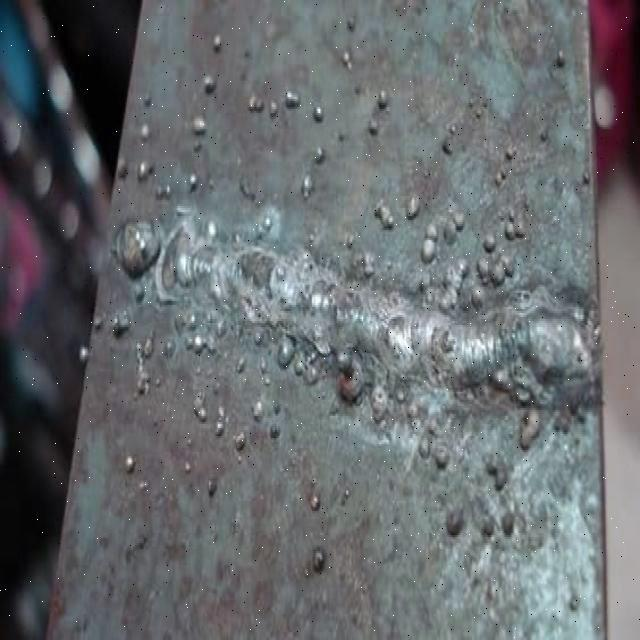Bad Welding: (138, 215, 598, 414)
